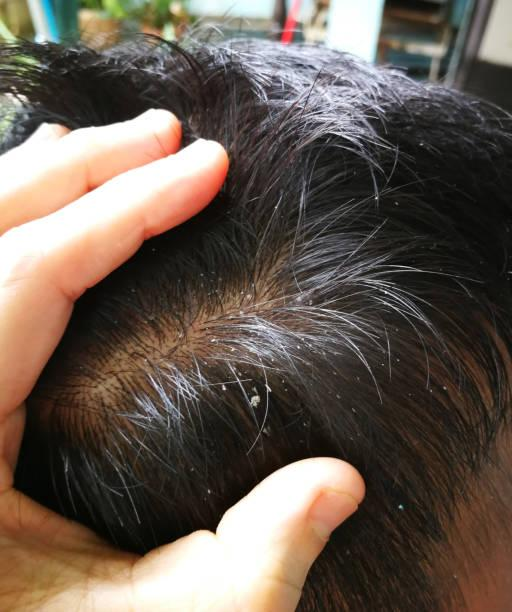dandruff: (388, 489, 417, 523), (362, 184, 393, 214), (423, 378, 455, 405), (192, 266, 225, 292), (243, 384, 265, 416), (291, 408, 315, 436), (133, 309, 156, 335), (195, 480, 218, 503), (205, 327, 225, 353), (349, 368, 368, 392), (288, 287, 308, 307), (414, 136, 426, 149)
